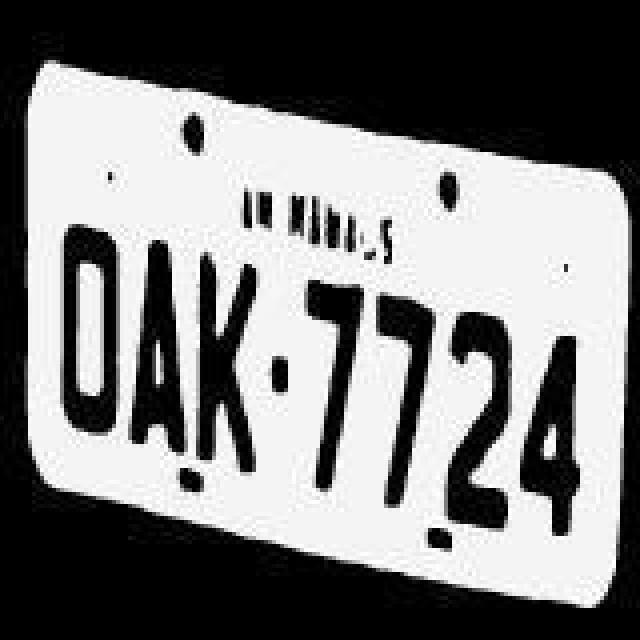2: (438, 304, 514, 536)
4: (518, 324, 586, 548)
7: (296, 268, 368, 500), (368, 286, 440, 514)
A: (124, 230, 196, 458)
K: (190, 242, 266, 486)
O: (48, 214, 128, 442)
